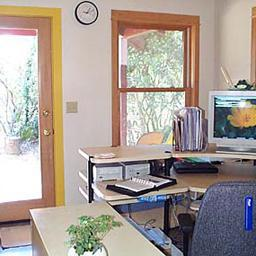Puerta: (2, 7, 61, 216)
Ventana: (115, 13, 193, 144)
